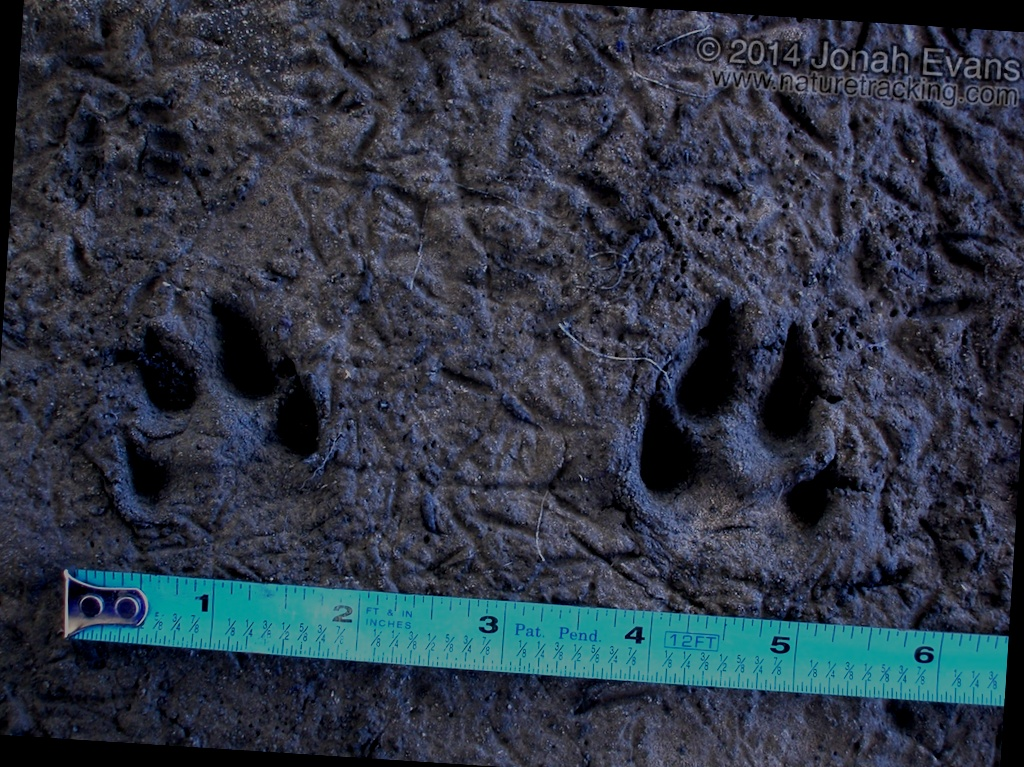lapin: (71, 290, 351, 591), (615, 249, 881, 556)
